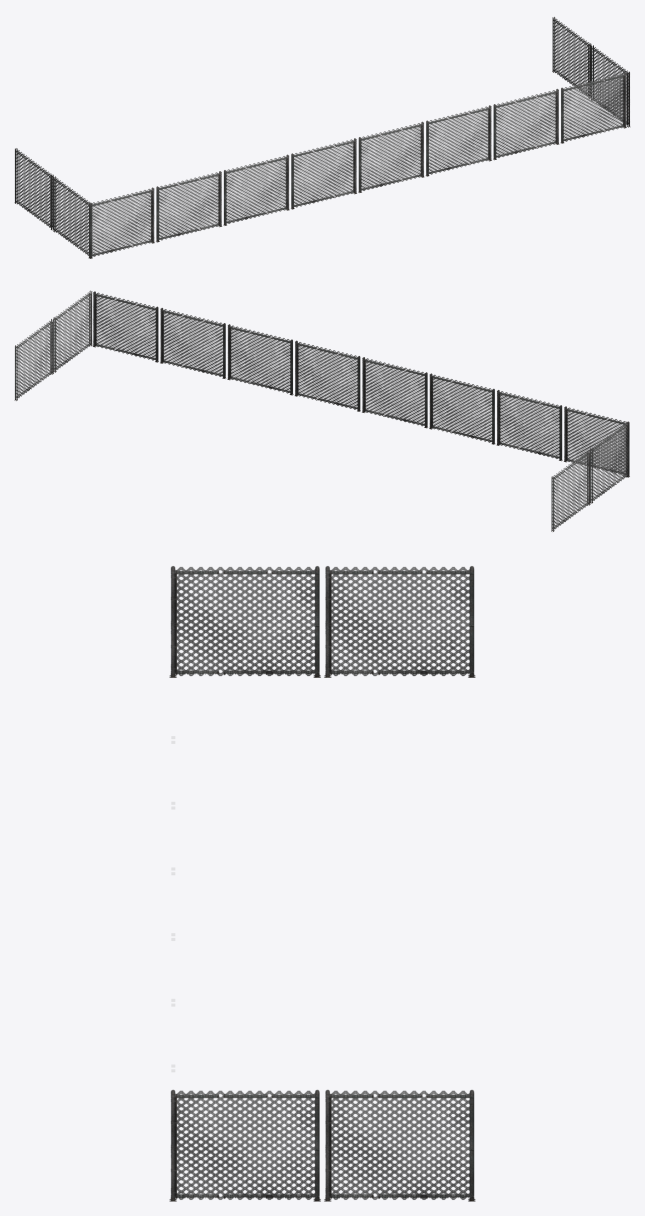
File: grade.glb
3 views of the same model, one above another, from view 1: azimuth 30°, elevation 25°; view 2: azimuth 150°, elevation 25°; view 3: azimuth 270°, elevation 25° (orthographic). The views are drawn at different scales.
Parts seen in each view (by area): view 1: Plane.003; view 2: Plane.003; view 3: Plane.003.
Boxes of the visible parts, x1=… form: Plane.003: x1=14, y1=17, x2=630, y2=258; Plane.003: x1=14, y1=290, x2=629, y2=531; Plane.003: x1=169, y1=566, x2=475, y2=1201.
Bounding box in the file's own units: 29.01 × 2.9 × 7.21.
3 materials, 3 textured.
